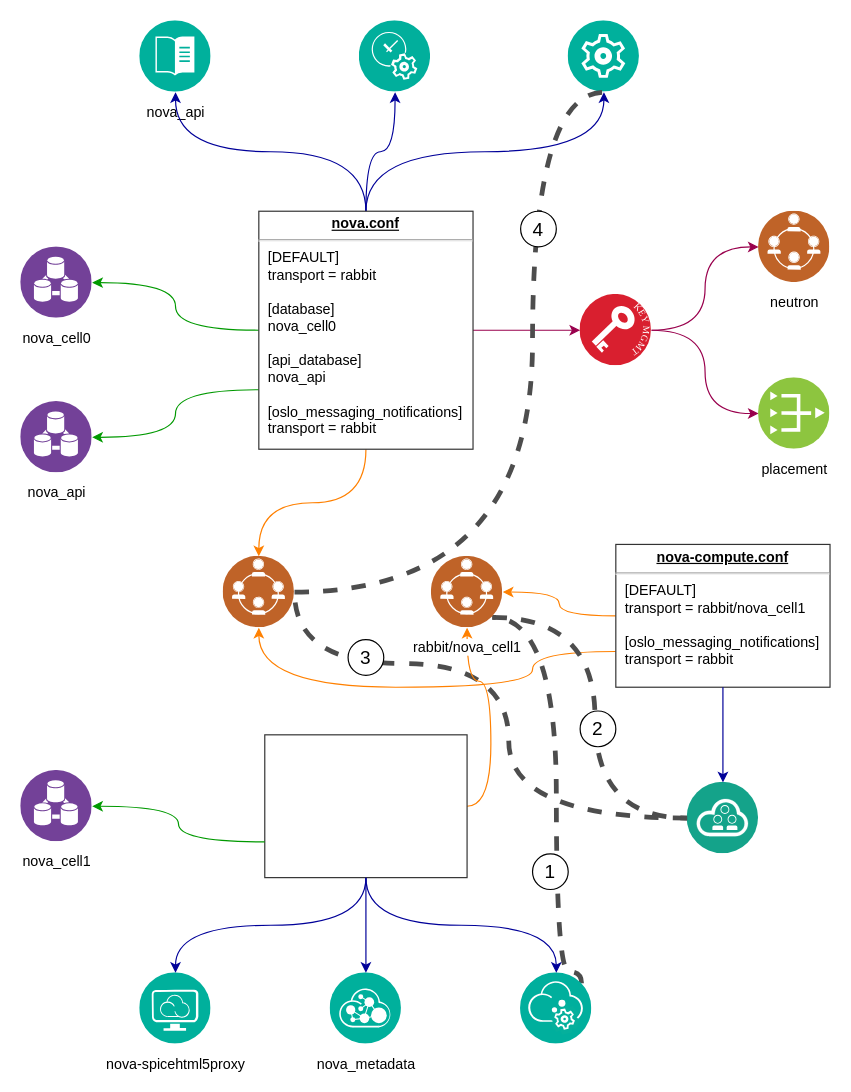
Some shapes in this 851 by 1092 pixel diagram are drawn without their labels. The shapes that lost their labels are listed below. From the top down, each one's box as (x1, y1, x2, y2) in pixels, then its label:
(359, 20, 430, 92): nova_scheduler
(568, 20, 639, 92): nova_superconductor
(580, 294, 651, 365): keystone_public
(223, 556, 294, 627): rabbit
(264, 734, 467, 878): nova-cell1.conf [DEFAULT] transport = rabbit/nova_cell1 [database] nova_cell1
(687, 782, 758, 853): nova_compute
(520, 972, 591, 1044): nova-conductor-cell1
